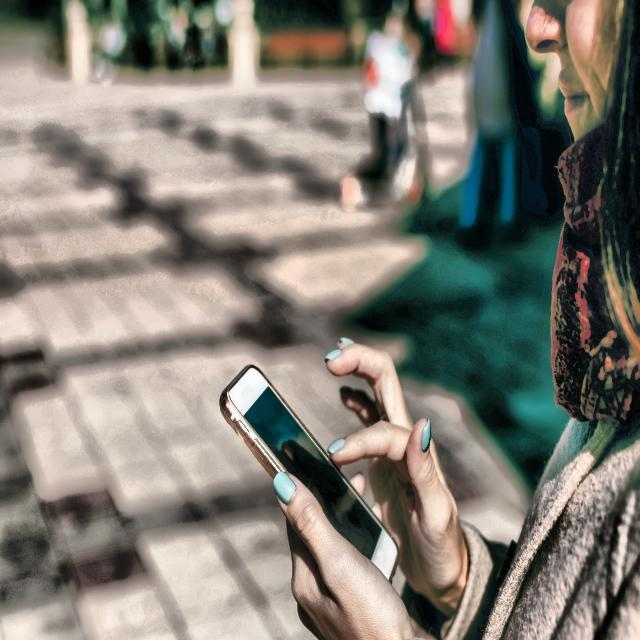Phone: (218, 360, 402, 588)
